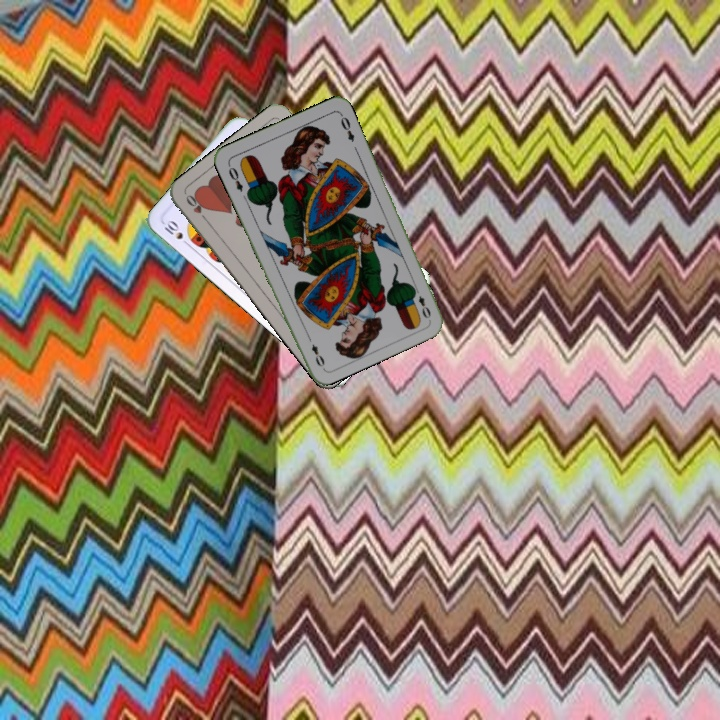EO: (410, 283, 433, 321), (224, 160, 246, 194)
HO: (182, 191, 212, 225)
S10: (160, 216, 193, 249)
